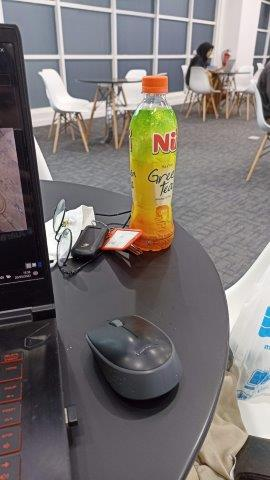botolplastik: (129, 75, 178, 251)
